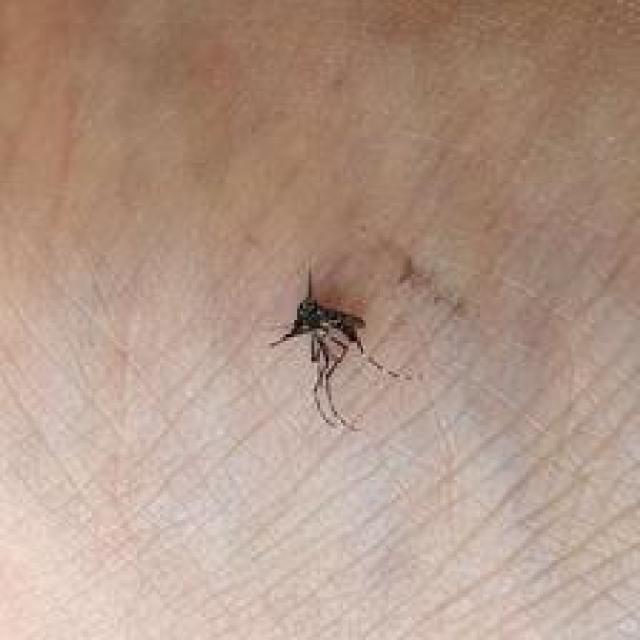Aedes albopictus: (267, 263, 407, 431)
